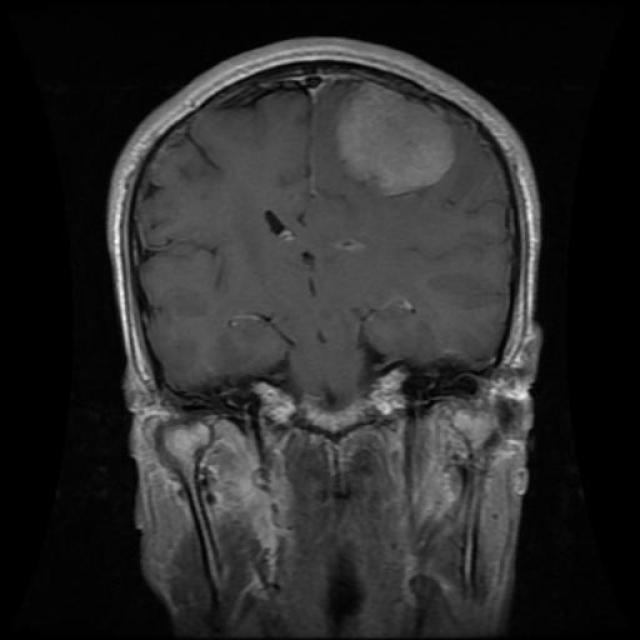meningioma: (335, 81, 454, 198)
